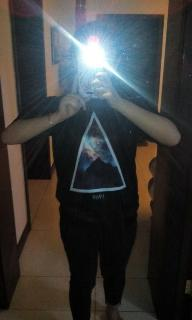short sleeve top: (11, 88, 180, 221)
trousers: (60, 211, 137, 320)
